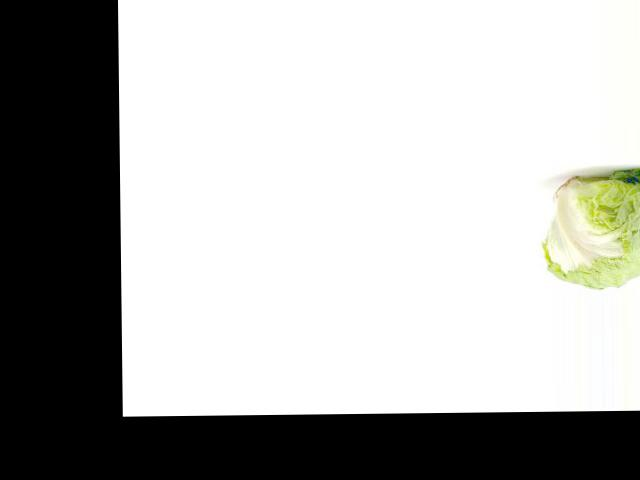lettuce: (544, 141, 640, 283)
